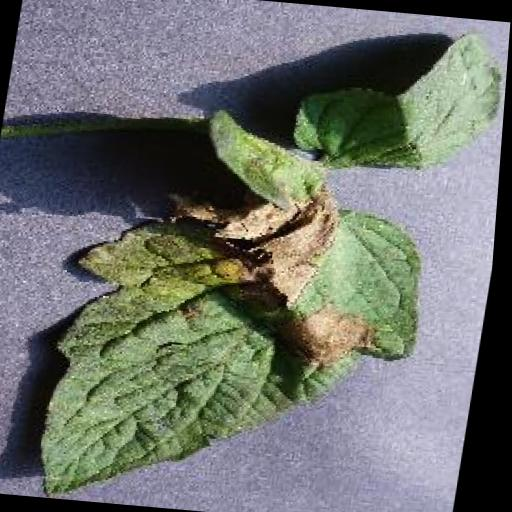Late Blight: (32, 181, 441, 512)
